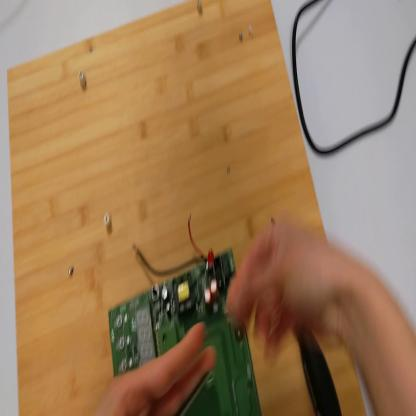hand: (226, 217, 355, 363), (95, 319, 217, 415)
low voltage board: (108, 204, 263, 415)
screwdriver-: (272, 216, 342, 412)
working area: (6, 1, 367, 415)
